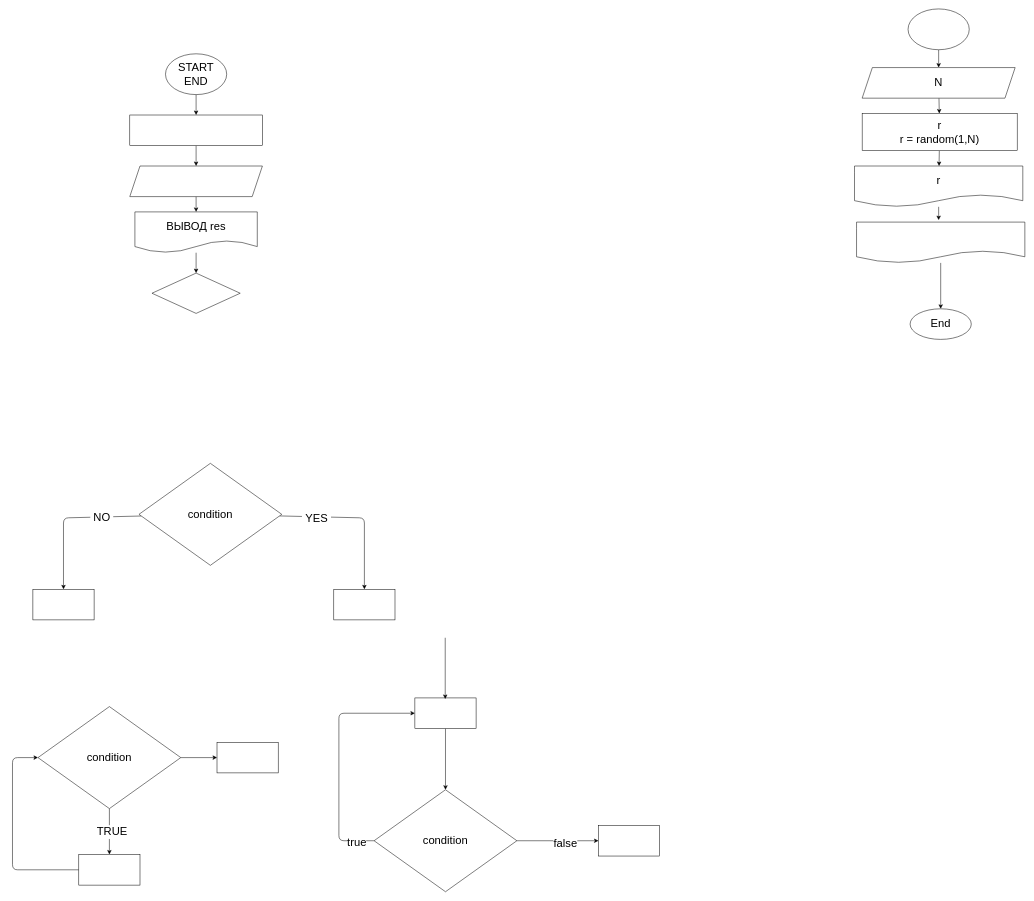
Image size: 1034x901. Some labels were removed from this diagram. Here are the shapes that lost their labels. From the top down, the centre of each, then its label:
At (938,29): "START".
At (195,130): "count = 0 res = 1 * Sqrt(2)".
At (195,181): "ВВОД count".
At (940,242): "math.pow (r.2)".
At (195,293): "условие".
